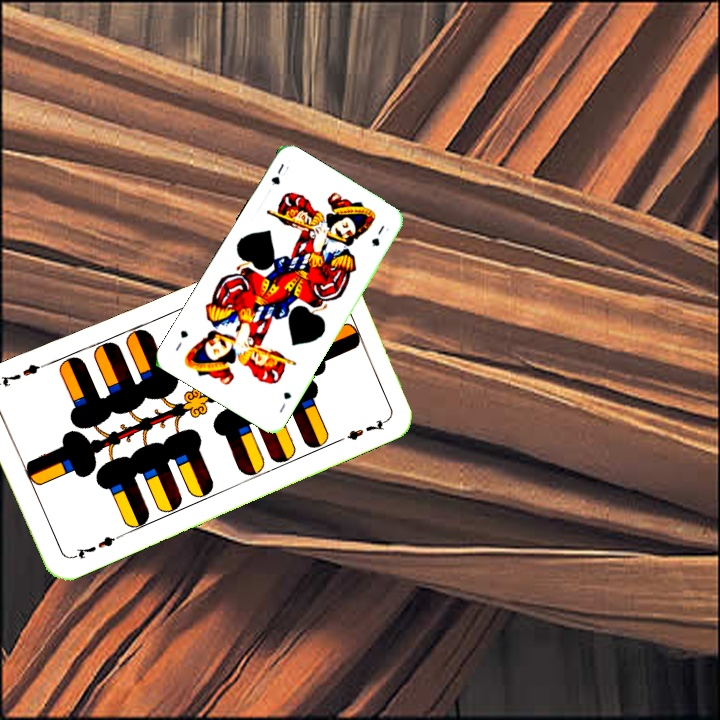E7: (67, 530, 123, 562)
GU: (267, 159, 287, 187), (275, 388, 294, 415)
